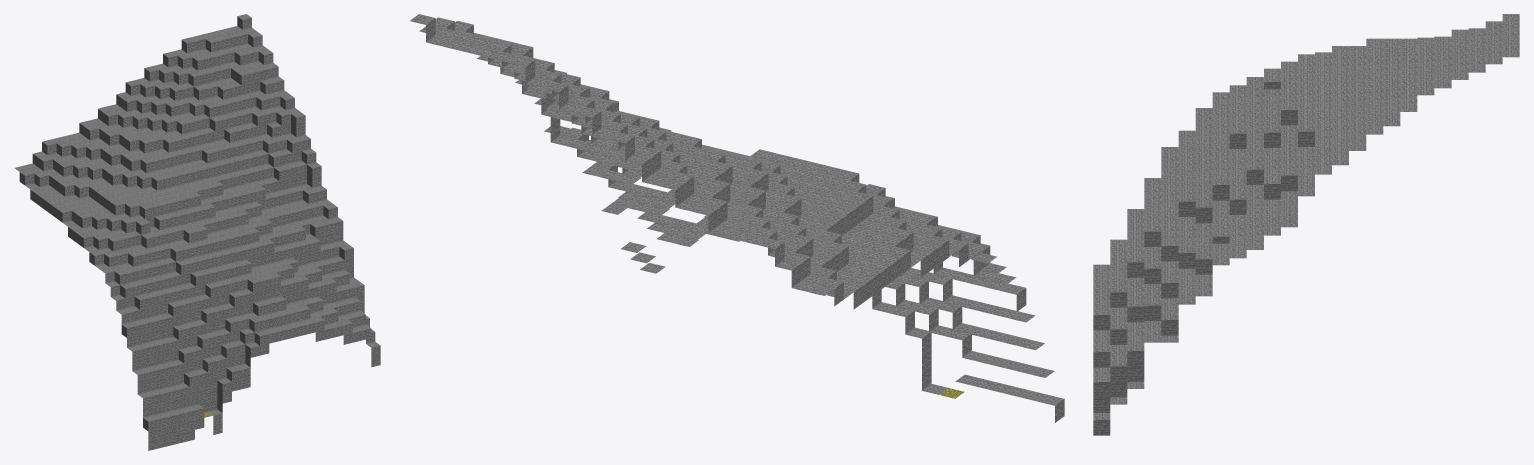
File: chunk-25--50-lvl-1-transformed.glb
The picture shows the model from 3 angles, left to right: view 1: azimuth 30°, elevation 25°; view 2: azimuth 150°, elevation 25°; view 3: azimuth 270°, elevation 25°; orthographic projection. The views are drawn at different scales.
Visible parts, largest first — view 1: Stone; view 2: Stone; view 3: Stone.
Boxes of the visible parts, x1,y1,x2,y2 form: Stone: [15, 14, 380, 450]; Stone: [410, 14, 1064, 422]; Stone: [1093, 14, 1519, 435].
Bounding box in the file's own units: 25 × 29 × 25.
2 materials, 2 textured.
